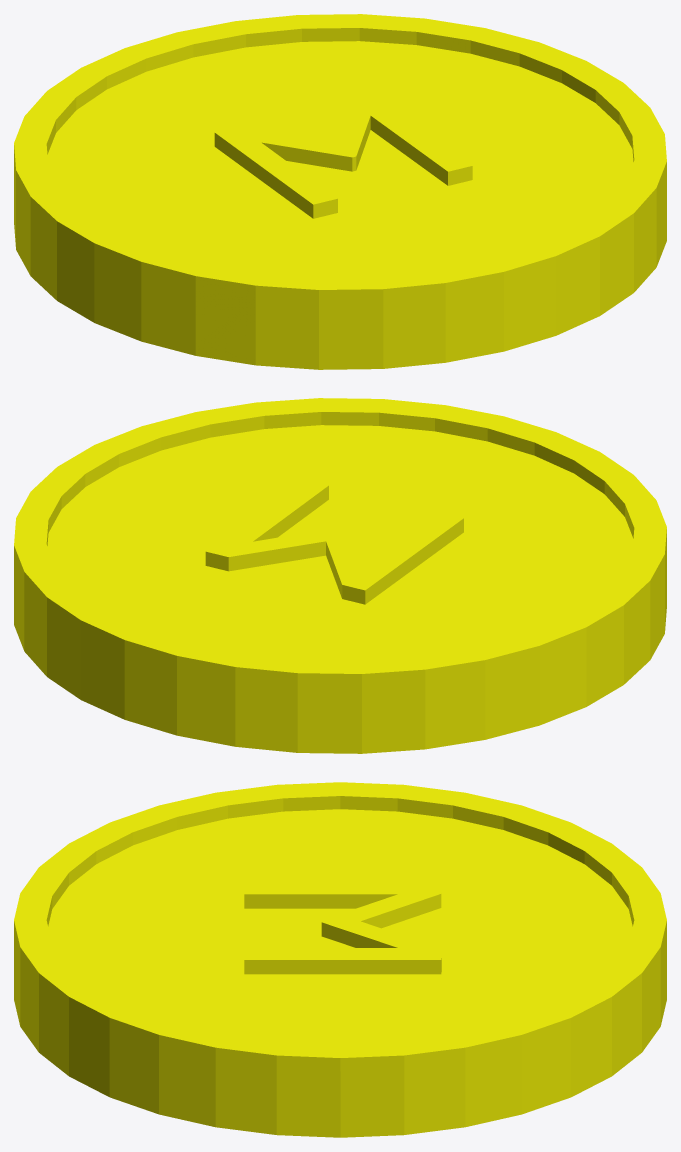
The model's file is coin.obj.
3 renders of one model, top to bottom at view 1: azimuth 30°, elevation 25°; view 2: azimuth 150°, elevation 25°; view 3: azimuth 270°, elevation 25°, orthographic.
Visible parts, largest first — view 1: Cylinder; view 2: Cylinder; view 3: Cylinder.
Boxes of the visible parts, left/top/right/bottom form: Cylinder: left=14, top=14, right=666, bottom=369; Cylinder: left=14, top=398, right=666, bottom=753; Cylinder: left=14, top=782, right=666, bottom=1137.
Size of the model in its own units: 2.22 by 0.3028 by 2.22.
